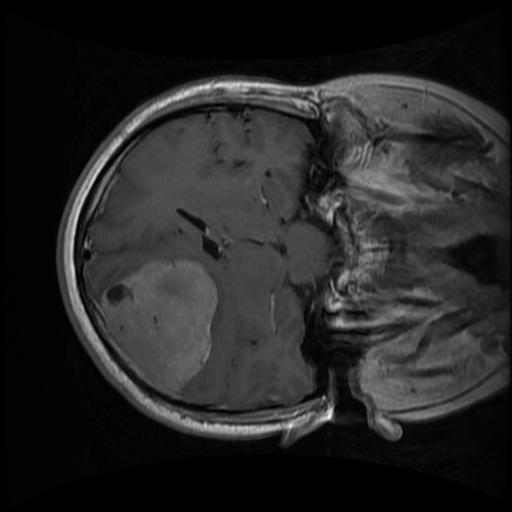meningioma: (98, 257, 218, 395)
